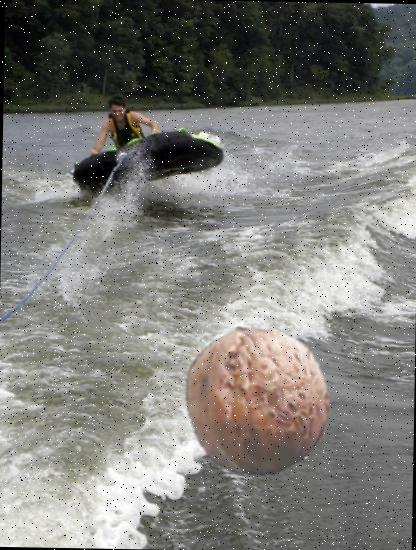Walnut: (180, 323, 334, 476)
